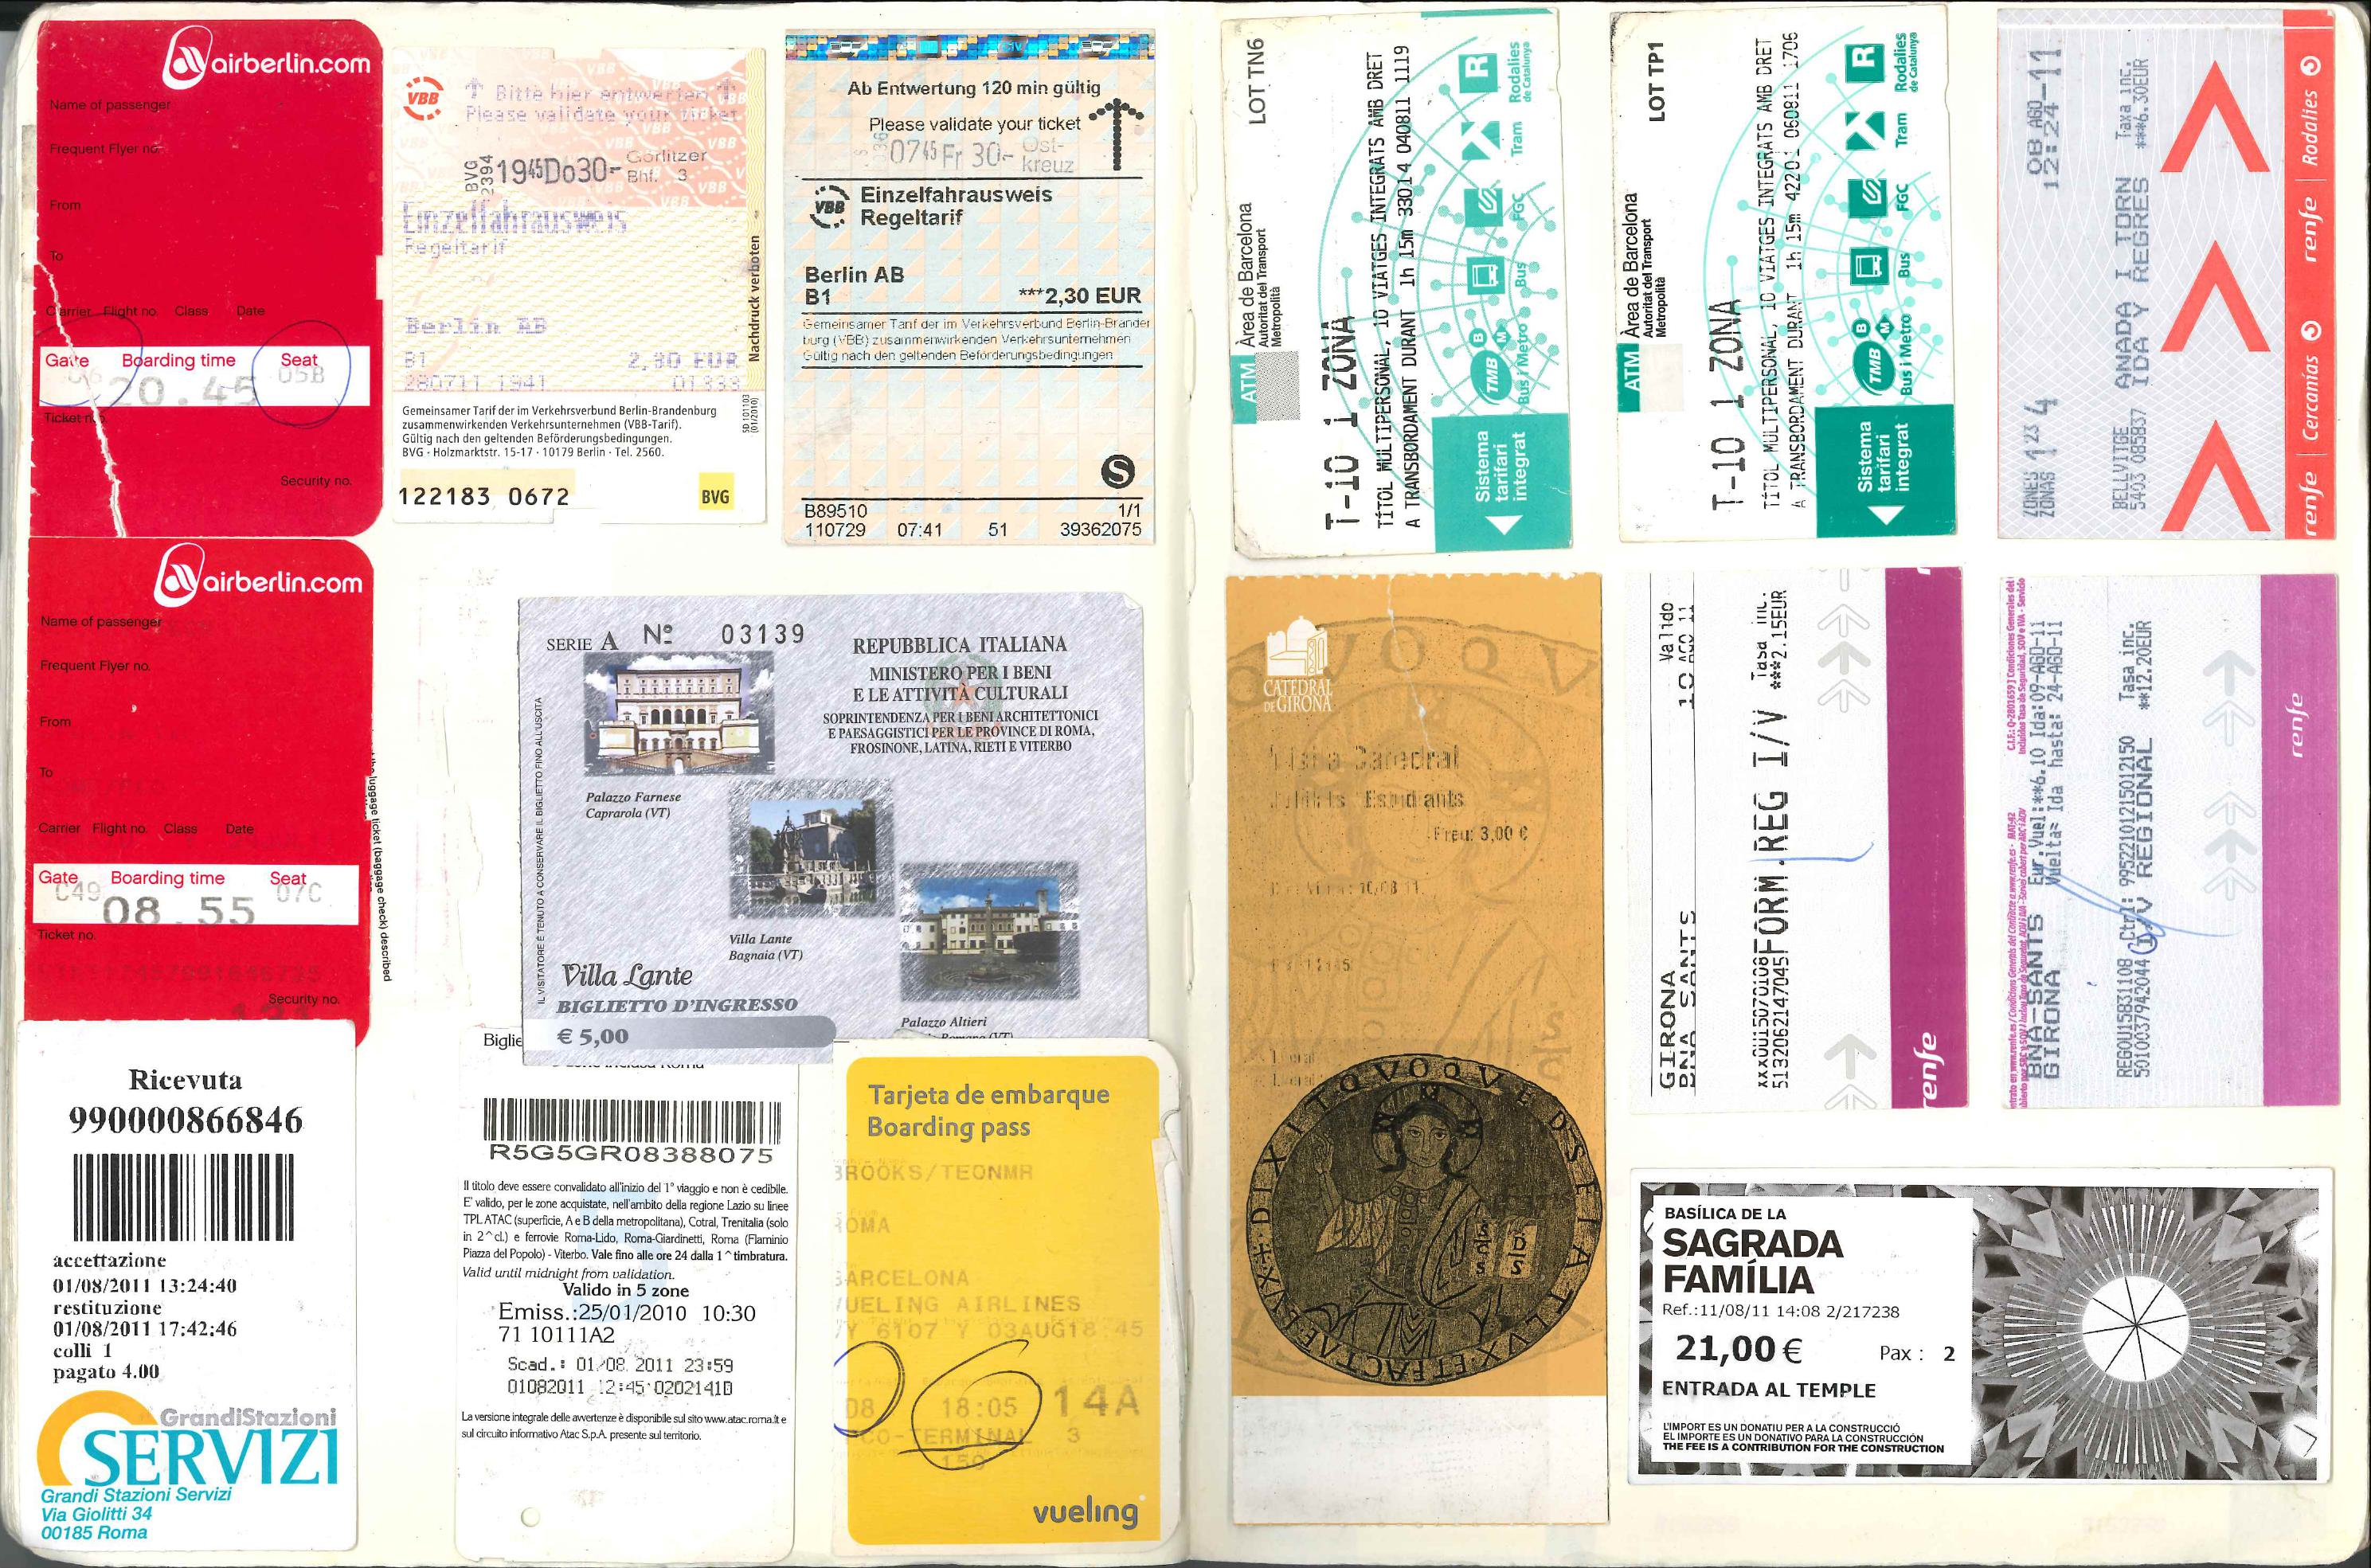stub: (1230, 576, 1615, 1526), (514, 598, 1153, 1039), (1633, 1167, 2336, 1486), (1220, 9, 1580, 555), (780, 30, 1158, 549), (1610, 5, 1963, 544), (1631, 562, 1974, 1111), (1993, 0, 2341, 541), (383, 42, 766, 525), (1995, 576, 2341, 1102), (460, 1025, 794, 1563), (37, 21, 381, 530), (26, 532, 371, 1020), (840, 1050, 1164, 1547)
